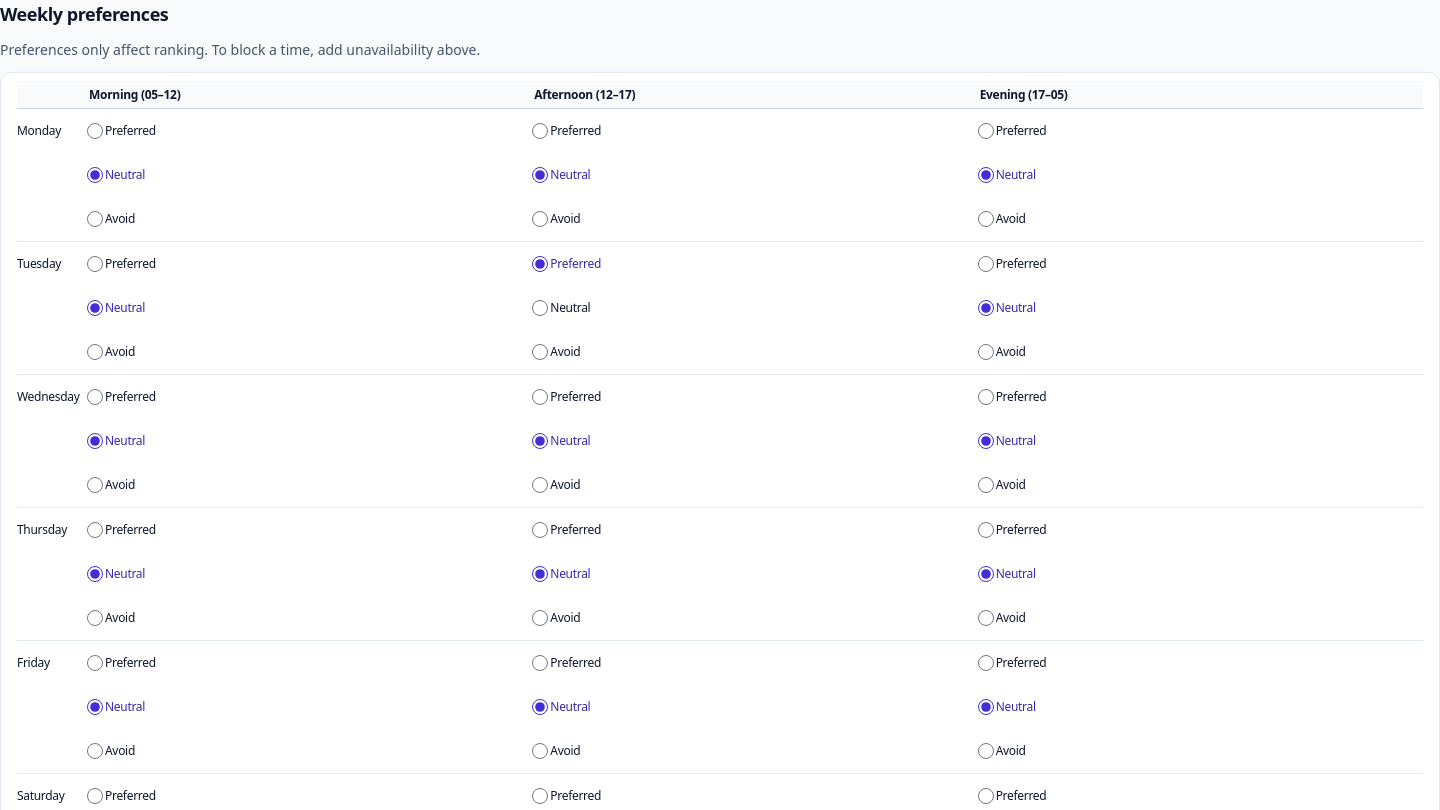
Test case: PreferenceGrid › keeps Save disabled until something changes
Expected: the 5th radio button labelled "Preferred" is checked, [532, 256, 548, 272]
What coordinates should you click on to do the following:
click the 1st radio button labelled "Avoid"
I would click on:
 (95, 219)
Its box is [87, 211, 103, 227].
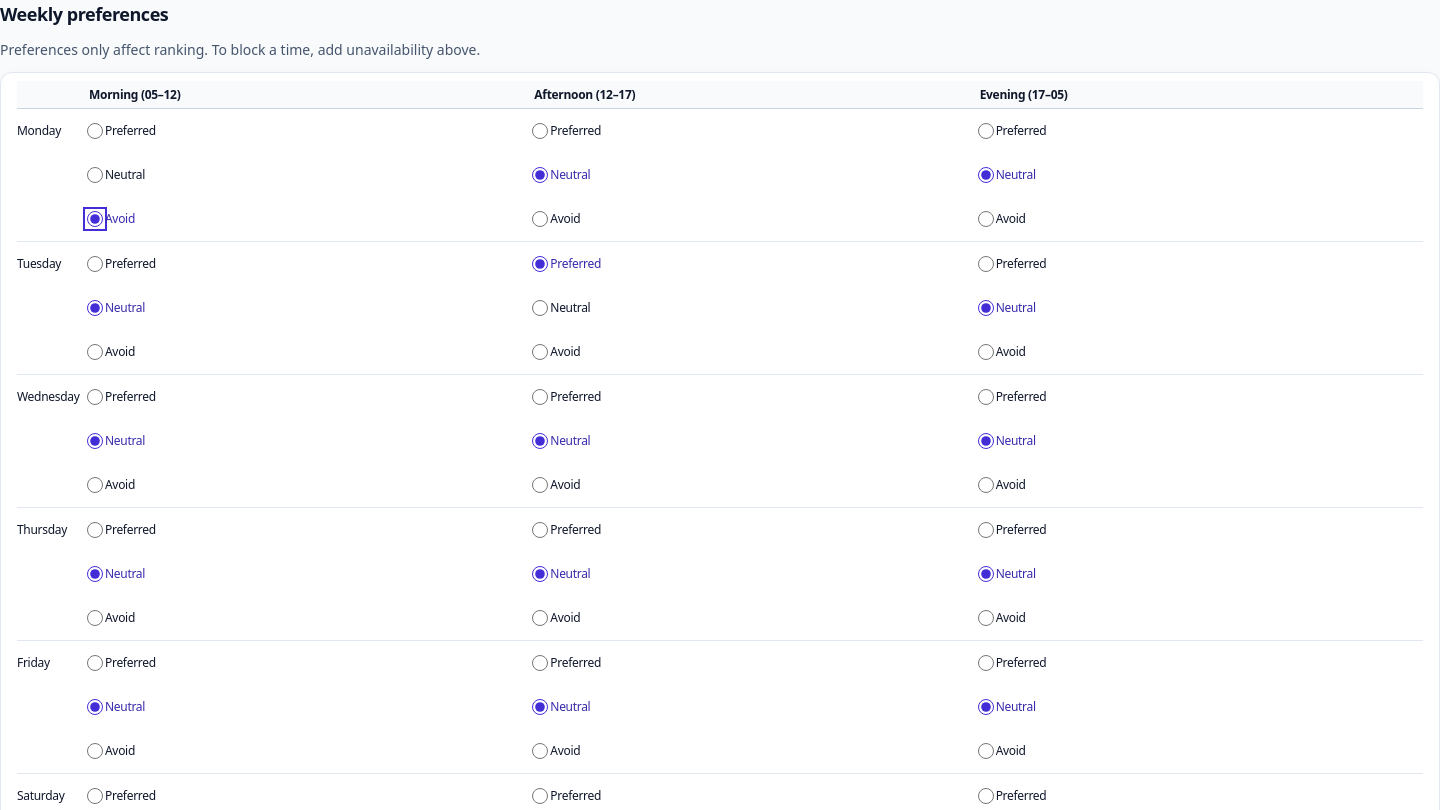
What coordinates should you click on to do the following:
click the 1st radio button labelled "Neutral"
I would click on:
 (95, 175)
Its box is [87, 167, 103, 183].
(page scrolled)
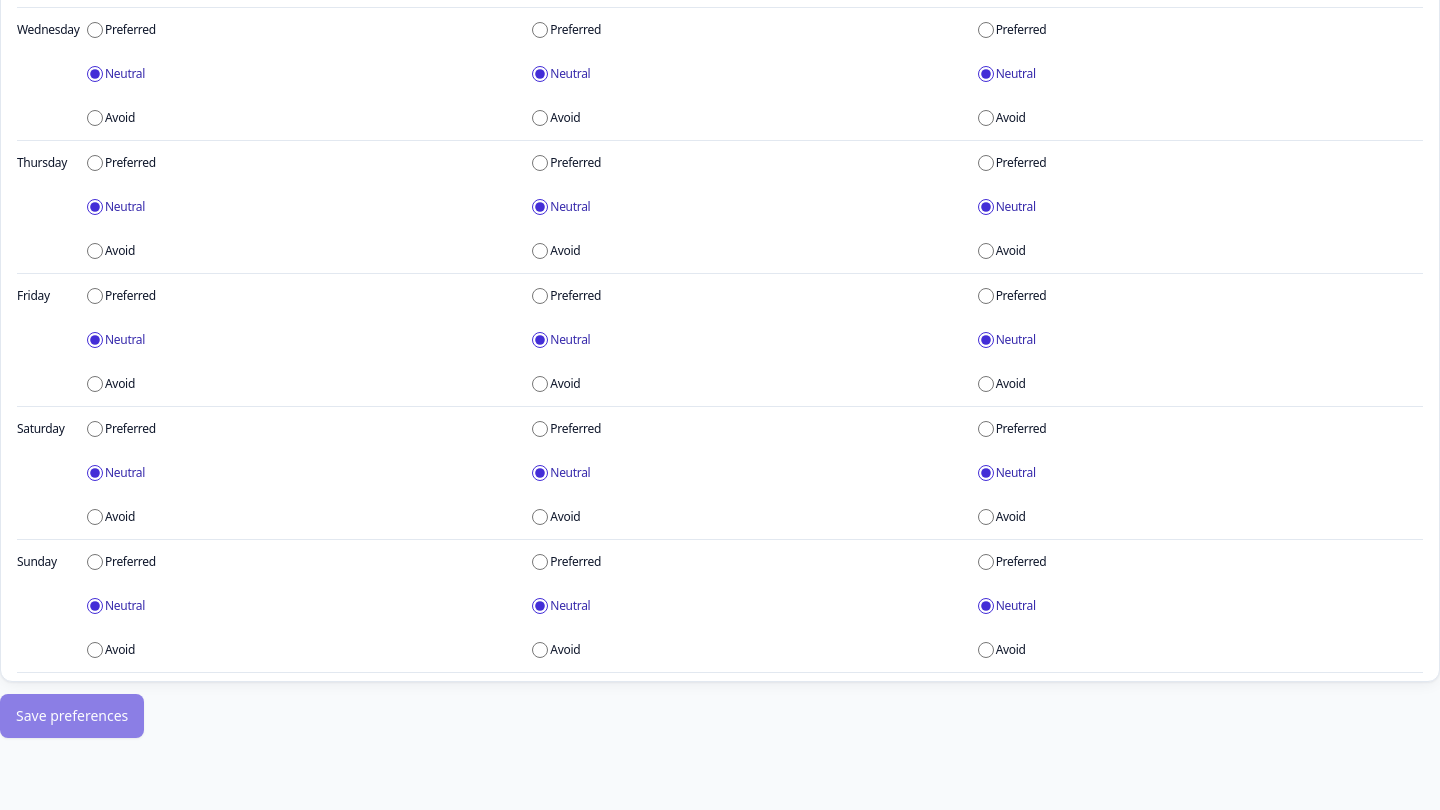
Expected: the button "Save preferences" is disabled, [0, 694, 144, 738]
